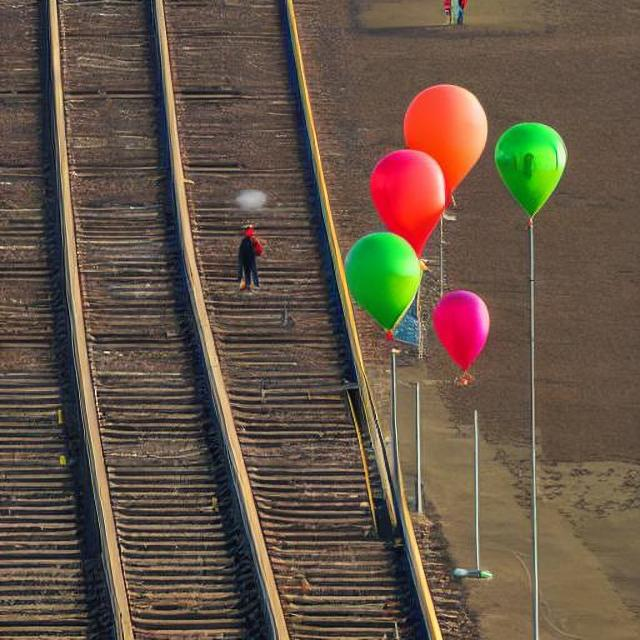balloon: (341, 77, 501, 377), (489, 121, 565, 272), (424, 284, 492, 378)
